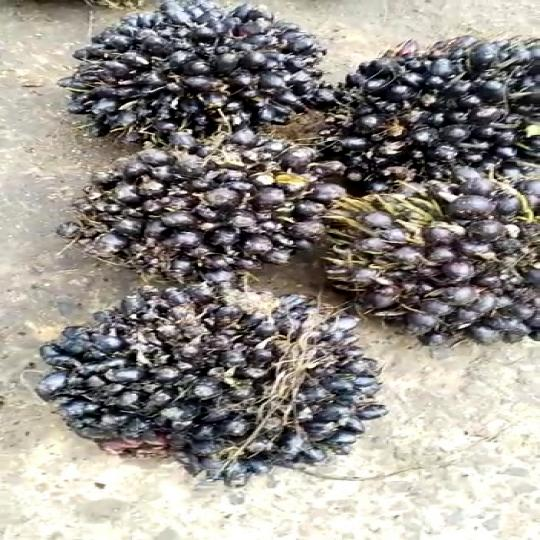mentah: (15, 275, 354, 478), (307, 166, 540, 354), (65, 0, 334, 150), (68, 151, 342, 276), (354, 31, 540, 185)
